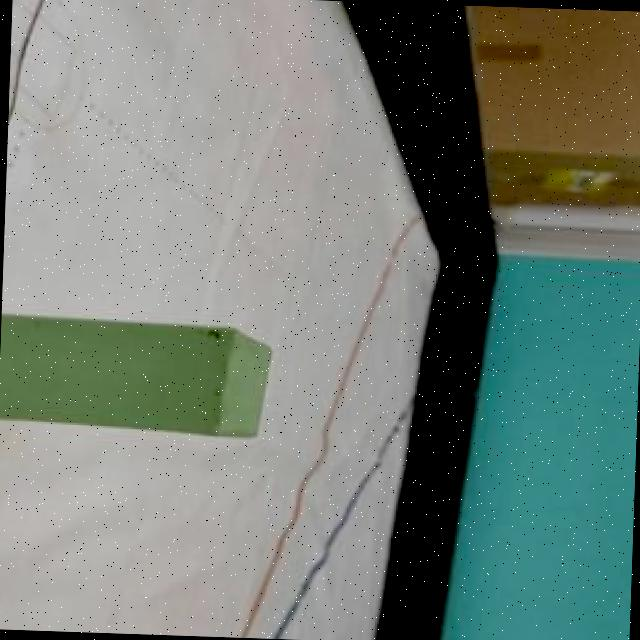greenbox: (0, 315, 275, 438)
